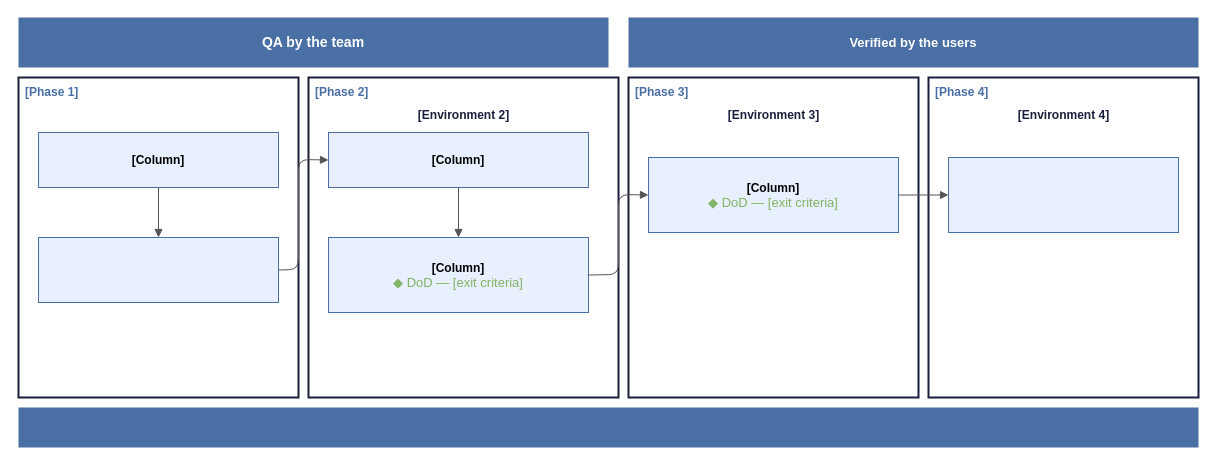
This 1216x464 diagram has some shape labels left out. The centre of each missing label's shape, as x and y in pixels:
"[Column] ◆ DoD — [done criteria]" goes at (x=1063, y=194).
"[Column] ◆ DoR — [entry criteria]" goes at (x=158, y=269).
"Continuous integration and automatic testing" goes at (x=608, y=427).
